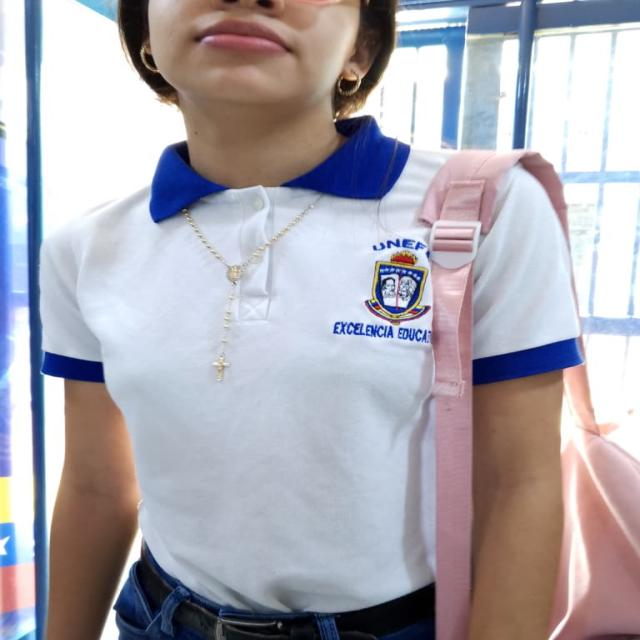uniforme_superior: (42, 114, 582, 613)
